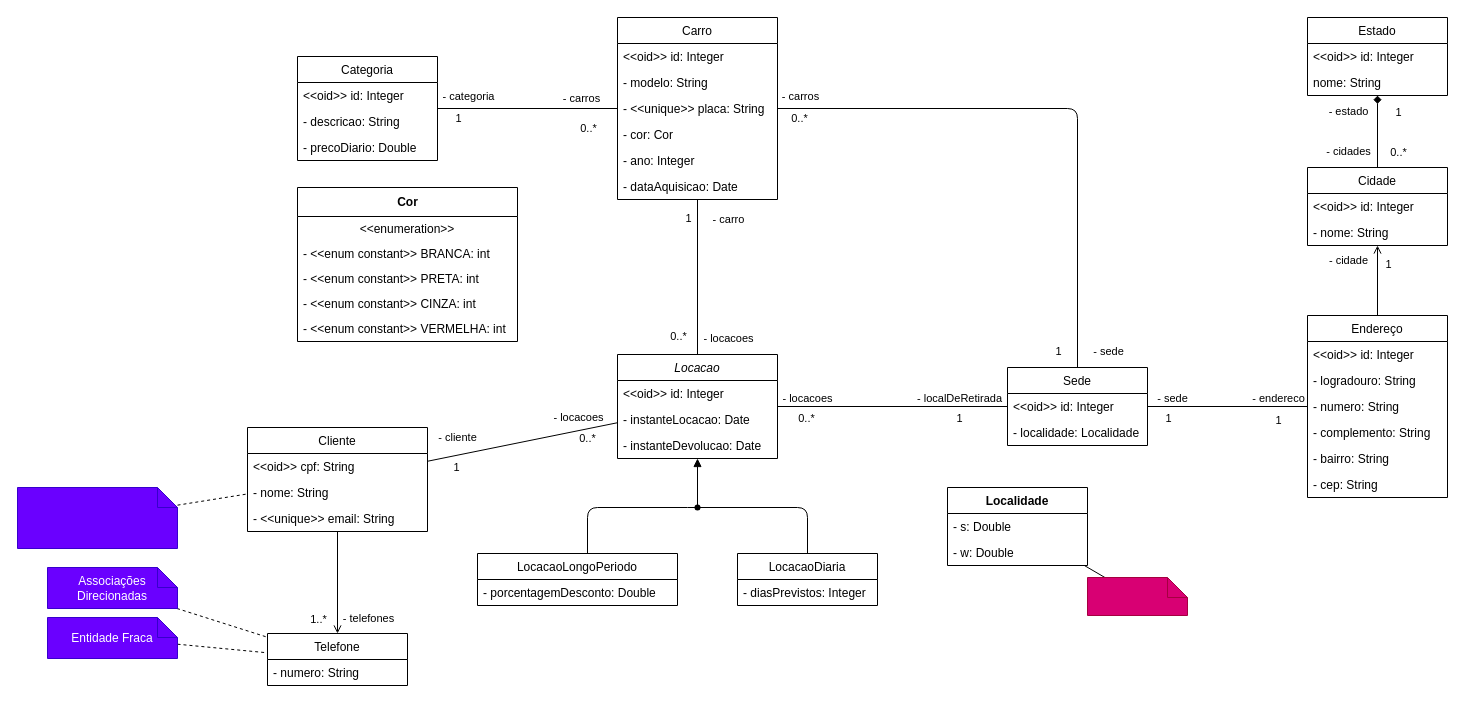
Image size: 1465x706. Some labels were removed from this diagram. Each missing label, with the centre of its shape:
Conceito: point (1137, 596)
Estereótipo `unique` para indicar atributos unicos (Chaves candidatas): point (97, 517)
